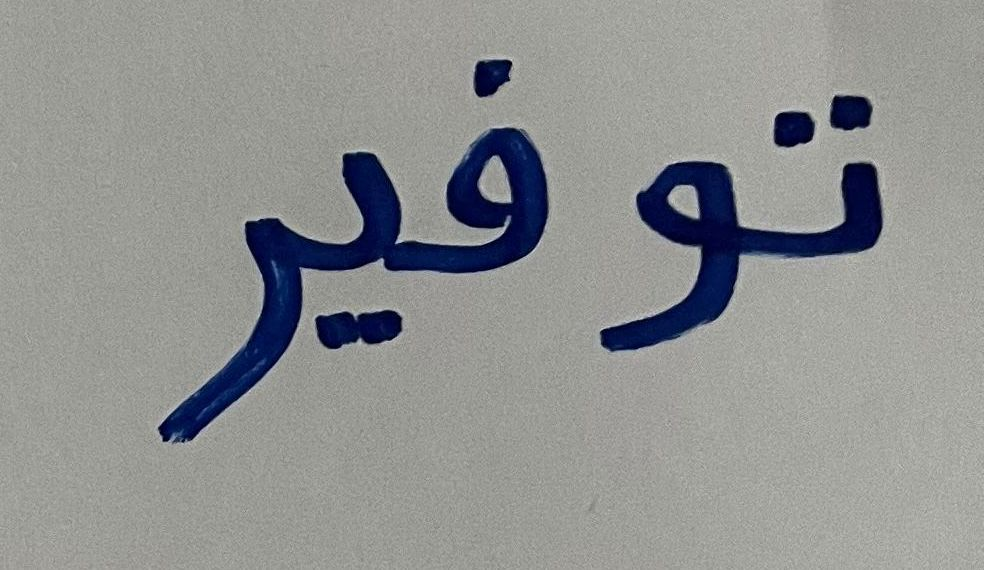feh: (426, 29, 569, 373)
reh: (123, 175, 303, 472)
teh: (753, 68, 914, 298)
waw: (577, 134, 748, 398)
yeh: (306, 135, 420, 397)
